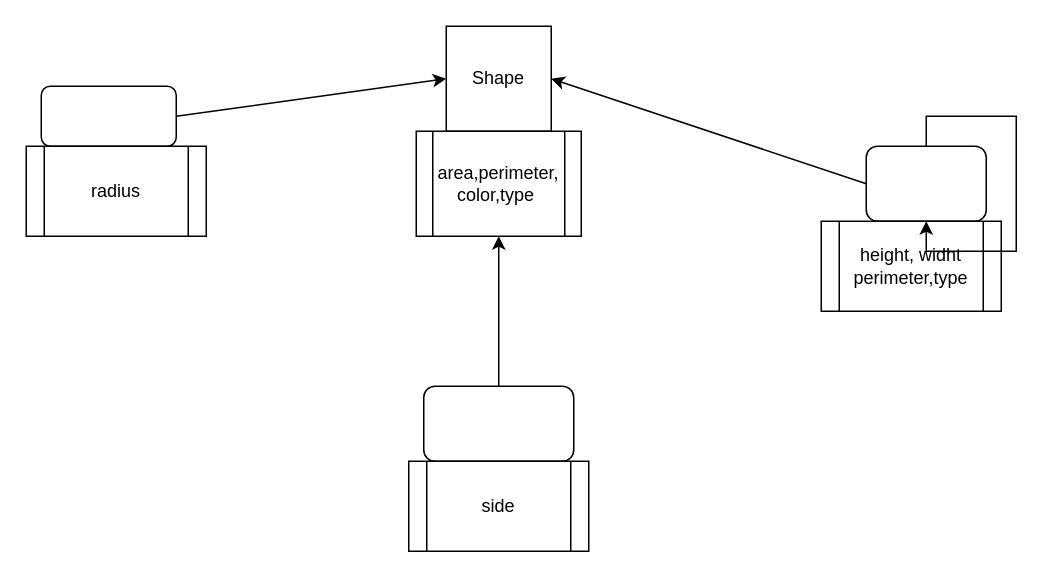
The diagram is 1055 pixels wide and 578 high, and some of its shapes have lost their labels. The shapes that lost their labels are listed below. From the top down, each one's box as (x1, y1, x2, y2) in pixels, then its label:
(40, 85, 176, 146): Circle
(865, 145, 986, 221): Rectangle
(422, 385, 574, 461): Square
